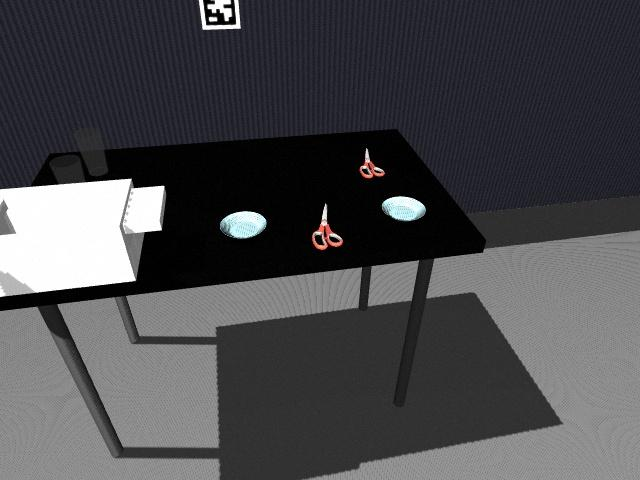cup: (74, 127, 109, 177), (50, 155, 84, 185)
plate: (219, 211, 267, 239), (380, 195, 428, 222)
scissors: (310, 201, 344, 250), (359, 147, 385, 178)
